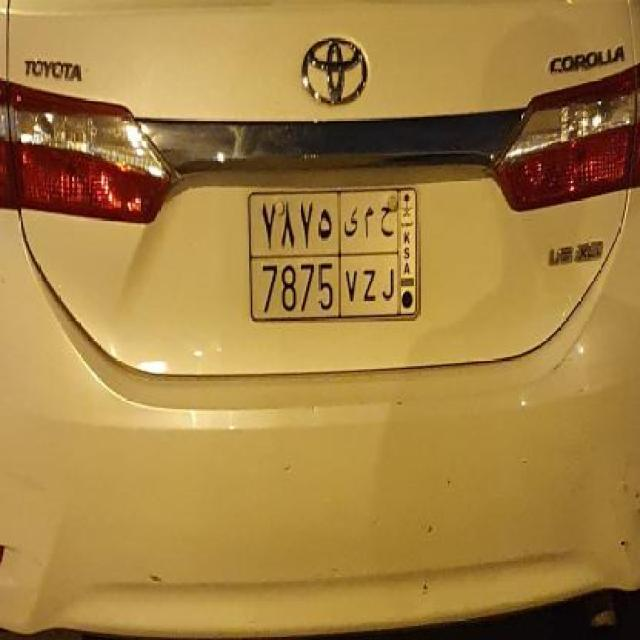license_plate: (246, 184, 422, 326)
